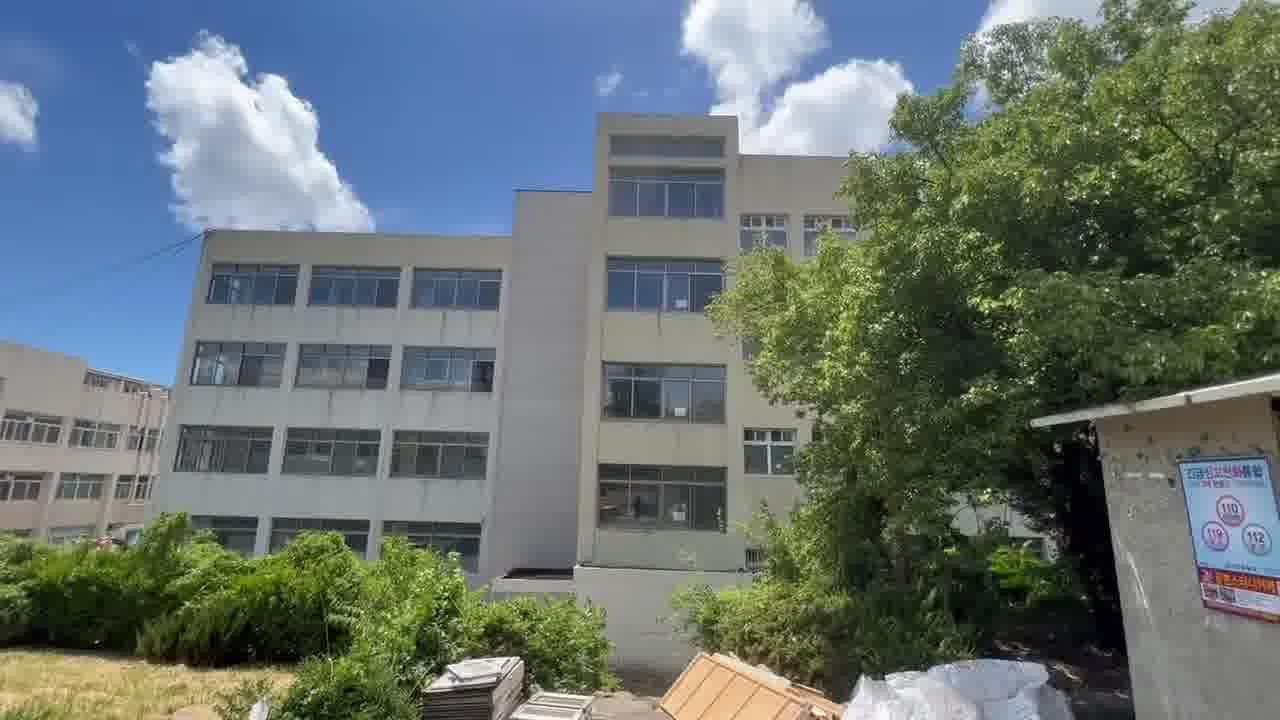building: (199, 102, 766, 552)
